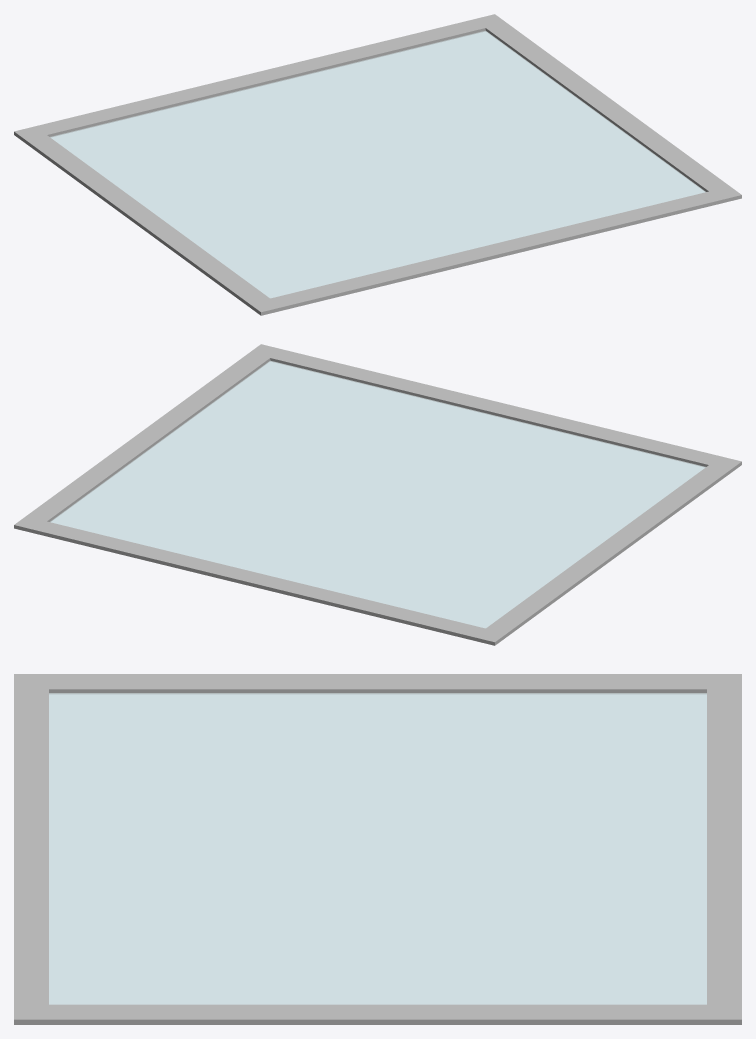
The model's file is Холодильник левая дверь.fbx.
The picture shows the model from 3 angles, top to bottom: view 1: azimuth 30°, elevation 25°; view 2: azimuth 150°, elevation 25°; view 3: azimuth 270°, elevation 25°; orthographic projection. The views are drawn at different scales.
Visible parts, largest first — view 1: Cube.028; view 2: Cube.028; view 3: Cube.028.
Boxes of the visible parts, bbox=[...] form: Cube.028: bbox=[14, 14, 741, 315]; Cube.028: bbox=[14, 344, 741, 645]; Cube.028: bbox=[14, 674, 741, 1024].
Size of the model in its own units: 241 by 1.69 by 214.
